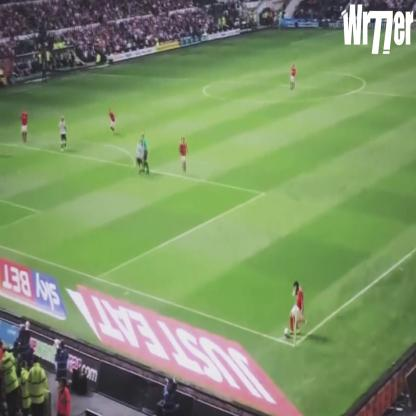corner kick: (249, 253, 335, 383)
